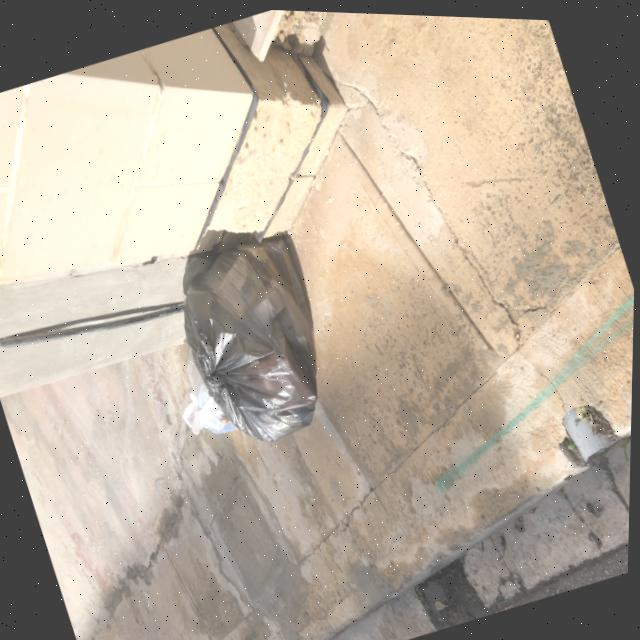Mixed Waste -Black Bag-: (161, 227, 359, 460)
Organic Waste -White Bag-: (168, 350, 240, 448)
